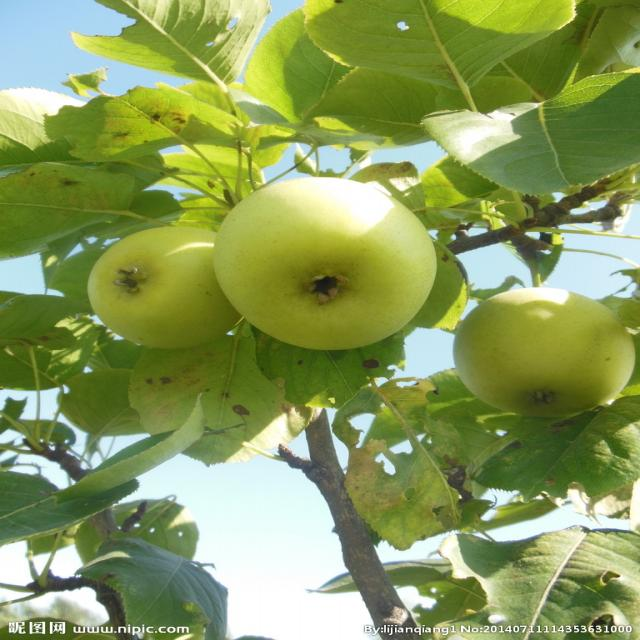Green Apple: (224, 179, 443, 352), (453, 288, 638, 415), (99, 226, 255, 335)
